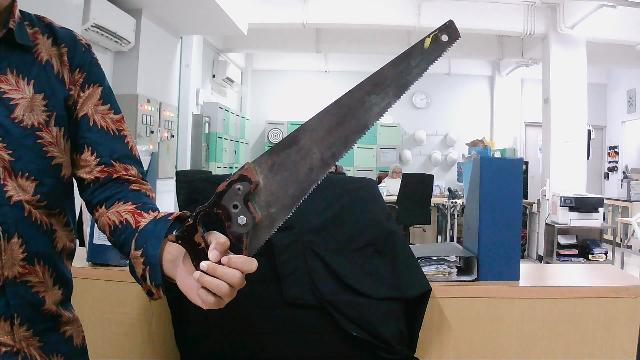gergaji_kayu: (157, 7, 470, 314)
